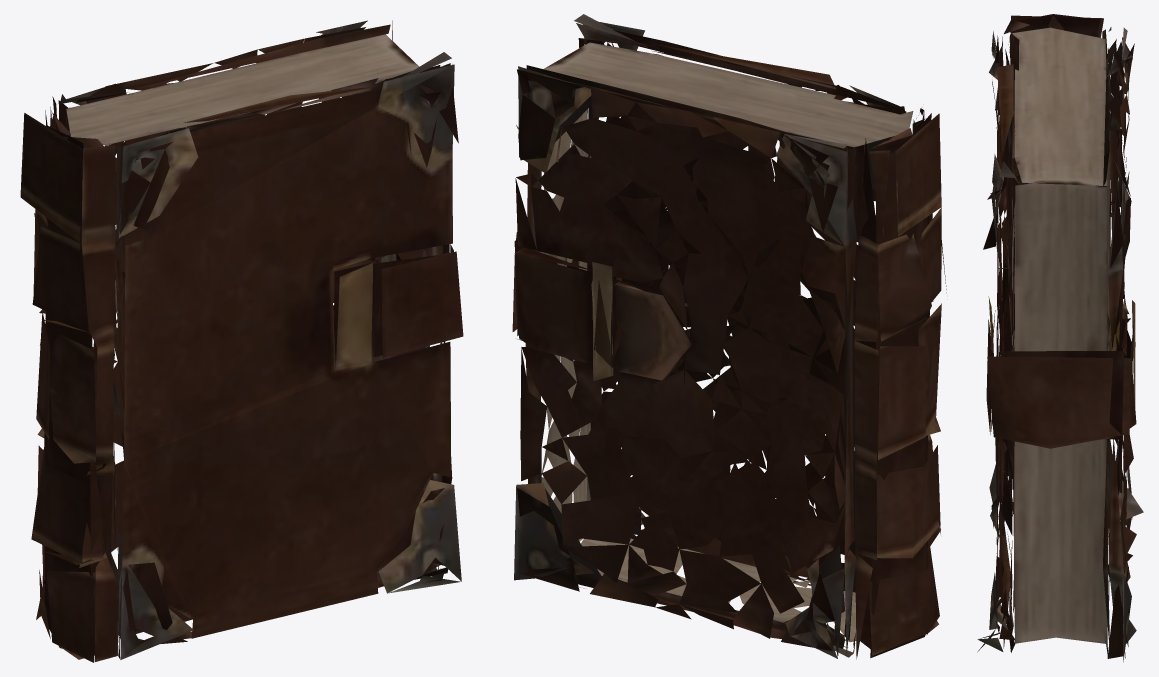
Rendered from pro_journal.glb.
The picture shows the model from 3 angles, left to right: view 1: azimuth 30°, elevation 25°; view 2: azimuth 150°, elevation 25°; view 3: azimuth 270°, elevation 25°; orthographic projection. The views are drawn at different scales.
Parts seen in each view (by area): view 1: MetricPlacement; view 2: MetricPlacement; view 3: MetricPlacement.
Part boxes in pixels (x1,y1,x2,y2): MetricPlacement: [20, 20, 463, 662]; MetricPlacement: [512, 14, 946, 659]; MetricPlacement: [977, 14, 1143, 662].
Size of the model in its own units: 0.2018 by 0.24 by 0.0752.
1 material, 1 textured.
